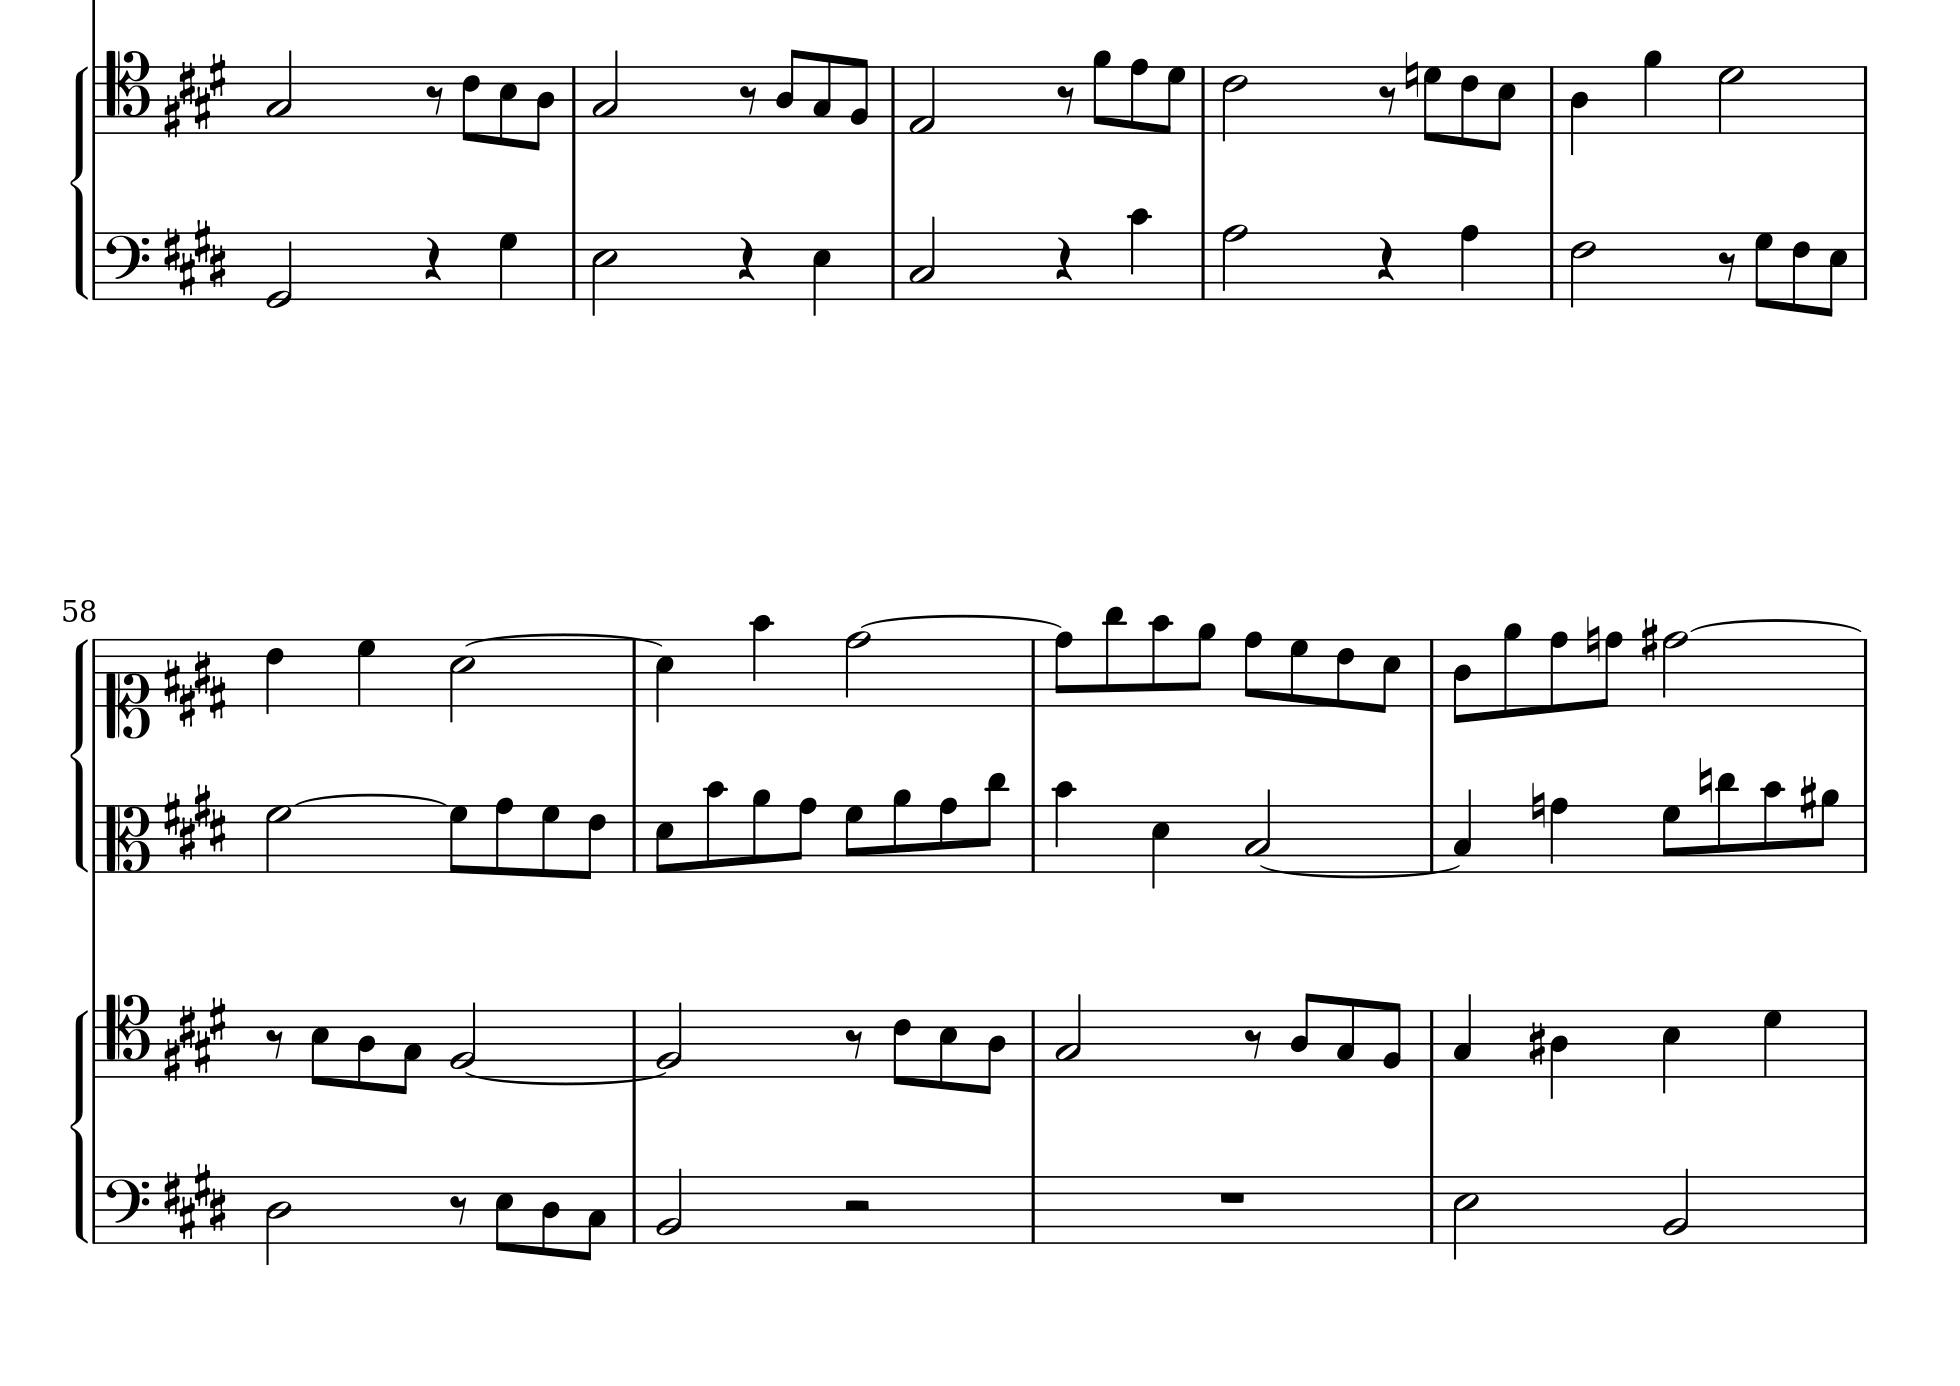2_0: (265, 229, 292, 307)
2_1: (907, 63, 937, 135)
2_2: (1662, 1165, 1692, 1245), (265, 49, 292, 132), (448, 1000, 477, 1078), (655, 1000, 684, 1078), (654, 1165, 682, 1243)
2_3: (1054, 991, 1083, 1078), (591, 49, 619, 133), (909, 214, 936, 298), (1245, 787, 1272, 871)
2_4: (265, 1173, 291, 1261)
2_5: (589, 231, 618, 316), (1452, 1174, 1479, 1261), (448, 637, 475, 723)
2_6: (1569, 231, 1596, 307), (844, 628, 870, 708), (1662, 628, 1687, 708), (1221, 64, 1246, 142)
2_7: (262, 802, 289, 873), (1717, 64, 1743, 133)
2_8: (1221, 222, 1248, 301)
4_10: (1051, 778, 1077, 874), (1128, 207, 1152, 301)
4_3: (1452, 787, 1473, 873), (1452, 993, 1473, 1078)
4_4: (1569, 64, 1590, 154), (1548, 1009, 1569, 1099)
4_5: (1149, 802, 1171, 892), (1660, 1008, 1683, 1096), (652, 637, 675, 724), (811, 229, 832, 318)
4_6: (1548, 793, 1569, 874), (264, 637, 283, 715)
4_7: (496, 231, 520, 300), (1762, 1008, 1785, 1078), (355, 637, 376, 708)
4_8: (1459, 222, 1480, 301)
4_9: (1642, 46, 1662, 135)
5: (61, 595, 79, 622)
8: (79, 595, 97, 624)
8_10: (702, 778, 727, 874), (1149, 612, 1173, 709), (1762, 778, 1785, 871), (751, 613, 772, 709)
8_11: (978, 769, 1008, 874), (1104, 603, 1128, 708), (1716, 768, 1740, 871)
8_2: (847, 57, 870, 135), (1380, 1000, 1402, 1078)
8_3: (577, 1174, 607, 1261), (394, 1008, 423, 1096), (1335, 996, 1357, 1080), (937, 1006, 958, 1092), (811, 52, 832, 135)
8_4: (774, 46, 802, 135), (1290, 991, 1318, 1078), (981, 1008, 1006, 1096), (529, 64, 555, 151), (1452, 637, 1473, 724), (355, 1008, 376, 1092), (540, 1174, 561, 1258)
8_5: (1821, 229, 1849, 318), (1489, 64, 1518, 151), (1374, 637, 1401, 715), (496, 63, 517, 148), (309, 1006, 330, 1087), (493, 1174, 514, 1252), (654, 802, 675, 874)
8_6: (579, 802, 607, 880), (1458, 64, 1479, 148), (1791, 229, 1812, 313), (891, 1006, 912, 1087), (460, 64, 481, 142), (1335, 636, 1356, 711)
8_7: (1161, 64, 1186, 135), (538, 802, 561, 879), (1753, 229, 1774, 310), (1422, 64, 1443, 142), (1288, 637, 1311, 708), (843, 802, 865, 871), (1660, 802, 1683, 871), (448, 802, 469, 874)
8_8: (1596, 630, 1624, 709), (790, 795, 817, 874), (1548, 628, 1570, 714), (1053, 628, 1075, 709), (1128, 57, 1150, 136), (493, 795, 514, 877), (1243, 628, 1264, 709), (937, 795, 958, 874)
8_9: (1189, 621, 1218, 708), (1813, 787, 1840, 874), (1503, 619, 1522, 720), (1092, 48, 1113, 136), (751, 787, 772, 874), (891, 787, 912, 873)
Brace: (69, 61, 90, 301), (69, 1005, 90, 1245), (70, 637, 88, 871)
Cclef: (103, 802, 148, 871)
E_S: (160, 51, 229, 139), (162, 994, 228, 1081), (162, 1159, 229, 1240), (160, 646, 226, 727), (162, 217, 226, 297), (162, 781, 226, 859)
Fclef: (103, 229, 148, 300), (103, 1173, 148, 1243)
Natural: (1404, 49, 1420, 100), (1530, 778, 1546, 829), (1696, 754, 1713, 805), (1585, 613, 1602, 663)
Rests1: (1218, 1188, 1248, 1204)
Rests2: (841, 1198, 873, 1213)
Rests4: (1374, 234, 1398, 283), (421, 234, 444, 282), (1053, 234, 1075, 282), (736, 234, 756, 282)
Rests8: (1243, 1026, 1266, 1060), (738, 82, 760, 115), (1717, 249, 1738, 283), (844, 1026, 865, 1060), (424, 82, 445, 115), (1056, 82, 1077, 115), (1377, 82, 1398, 115), (448, 1192, 469, 1225), (265, 1027, 285, 1060)
Sharp: (1527, 1018, 1548, 1068), (1798, 774, 1818, 820), (1641, 615, 1659, 664)
Single_barline: (1026, 637, 1044, 706), (625, 804, 643, 871), (1194, 232, 1212, 298), (625, 1009, 643, 1075), (87, 1009, 103, 1078), (625, 643, 643, 706), (87, 66, 103, 133), (1026, 804, 1042, 871), (1026, 1009, 1042, 1077), (1857, 66, 1873, 132), (565, 67, 582, 133), (1195, 67, 1212, 133), (1543, 232, 1560, 298), (1857, 232, 1873, 298), (1857, 805, 1873, 871), (1857, 1009, 1873, 1075), (1857, 1176, 1873, 1242), (565, 232, 582, 297), (1425, 639, 1440, 706), (1858, 639, 1873, 706), (627, 1174, 642, 1242), (1026, 1176, 1041, 1243), (1545, 67, 1560, 133), (88, 232, 103, 298), (886, 232, 901, 298), (1425, 1009, 1440, 1075), (1425, 1176, 1440, 1242), (1425, 805, 1440, 870), (886, 64, 900, 133), (88, 637, 102, 706), (88, 1176, 102, 1243), (88, 804, 100, 873)
Slur: (855, 613, 1065, 631), (460, 631, 655, 648), (1260, 864, 1462, 879), (463, 1072, 664, 1087), (1690, 616, 1861, 633), (295, 793, 445, 805)
Soprano_Cclef: (105, 637, 148, 738)
Tensor_Cclef: (103, 49, 148, 133), (103, 991, 148, 1075)
